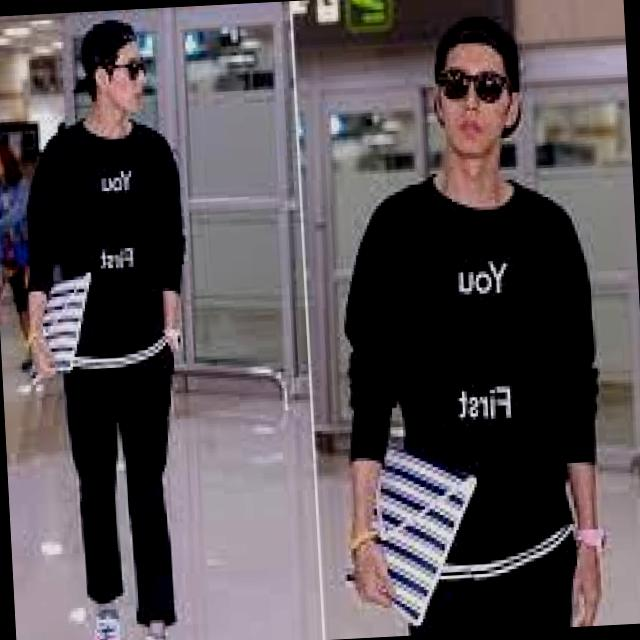pants: (62, 318, 190, 638)
sweater: (340, 156, 614, 571), (18, 108, 195, 361)
